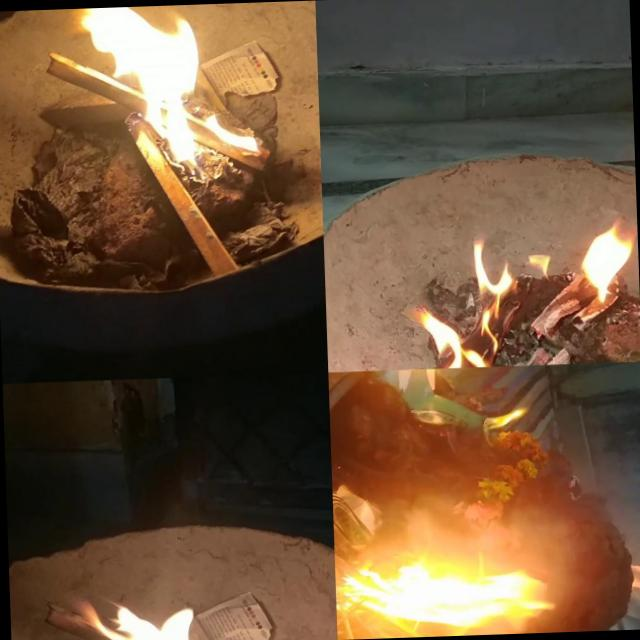fire: (83, 2, 276, 198), (408, 210, 631, 370), (73, 590, 255, 640), (526, 620, 552, 633)
smoke: (583, 360, 640, 586)
